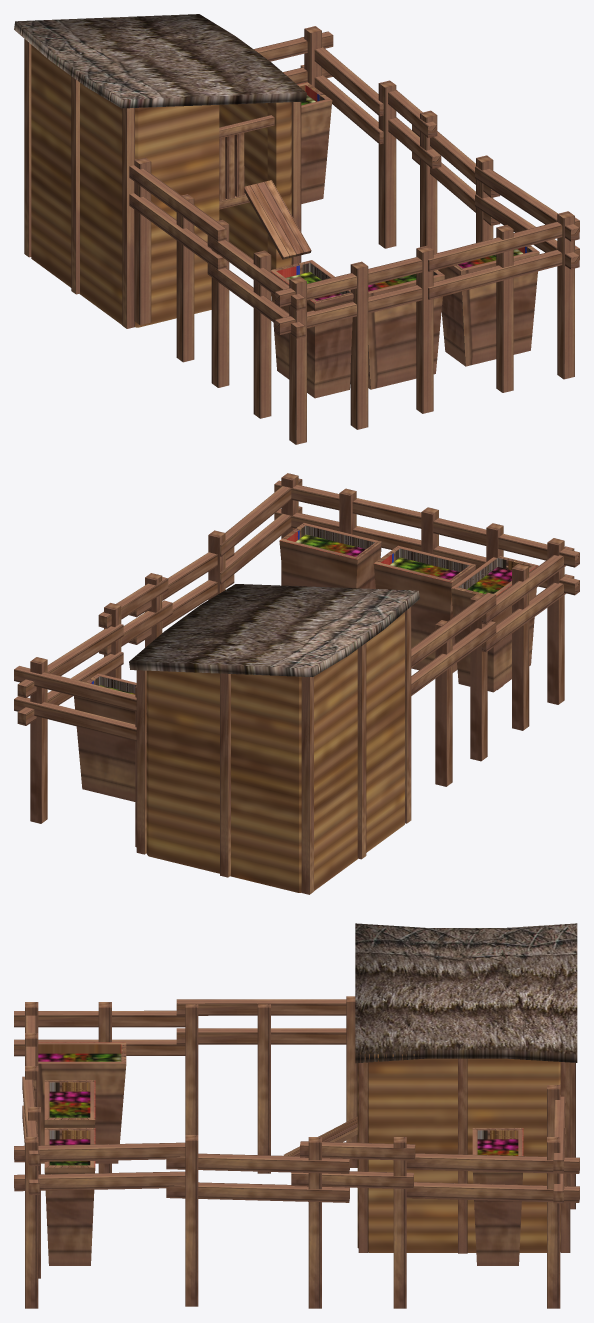
The model's file is generic_corral.dae.
3 renders of one model, top to bottom at view 1: azimuth 30°, elevation 25°; view 2: azimuth 150°, elevation 25°; view 3: azimuth 270°, elevation 25°, orthographic. The views are drawn at different scales.
Parts seen in each view (by area): view 1: Corral; view 2: Corral; view 3: Corral.
Boxes of the visible parts, bbox=[...] form: Corral: bbox=[14, 14, 579, 444]; Corral: bbox=[14, 473, 579, 894]; Corral: bbox=[14, 923, 579, 1308].
Bounding box in the file's own units: 10.9 × 16.75 × 7.83.
